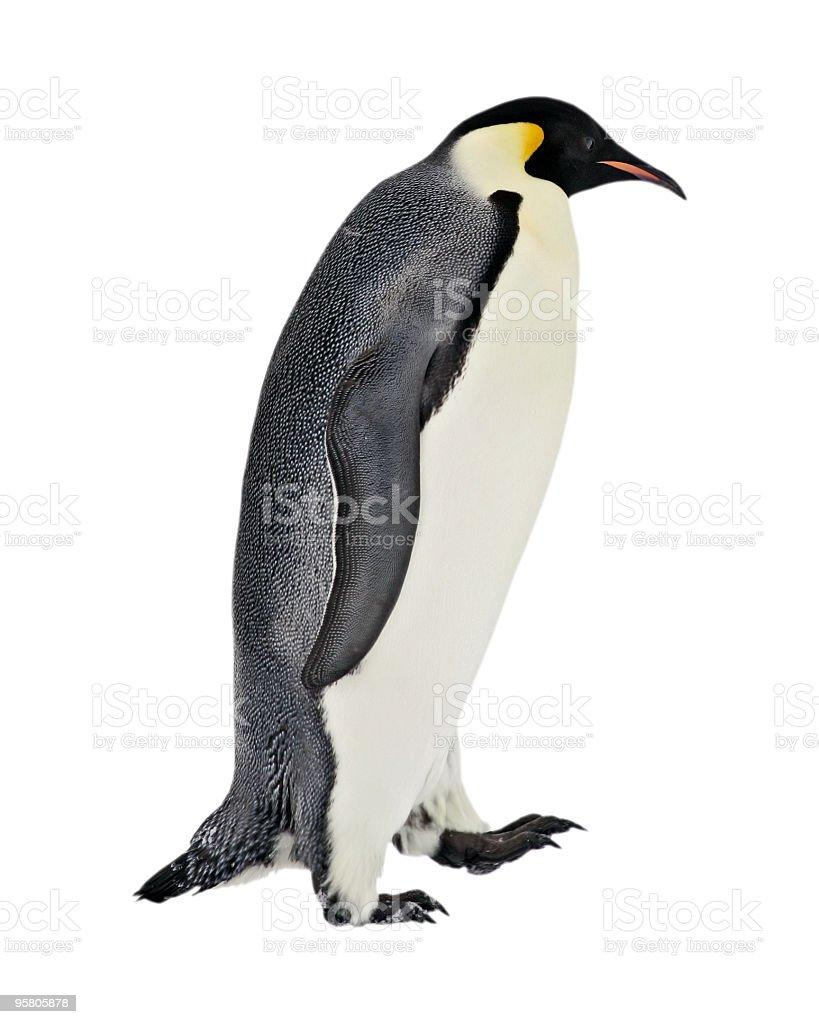emporer: (125, 56, 696, 938)
